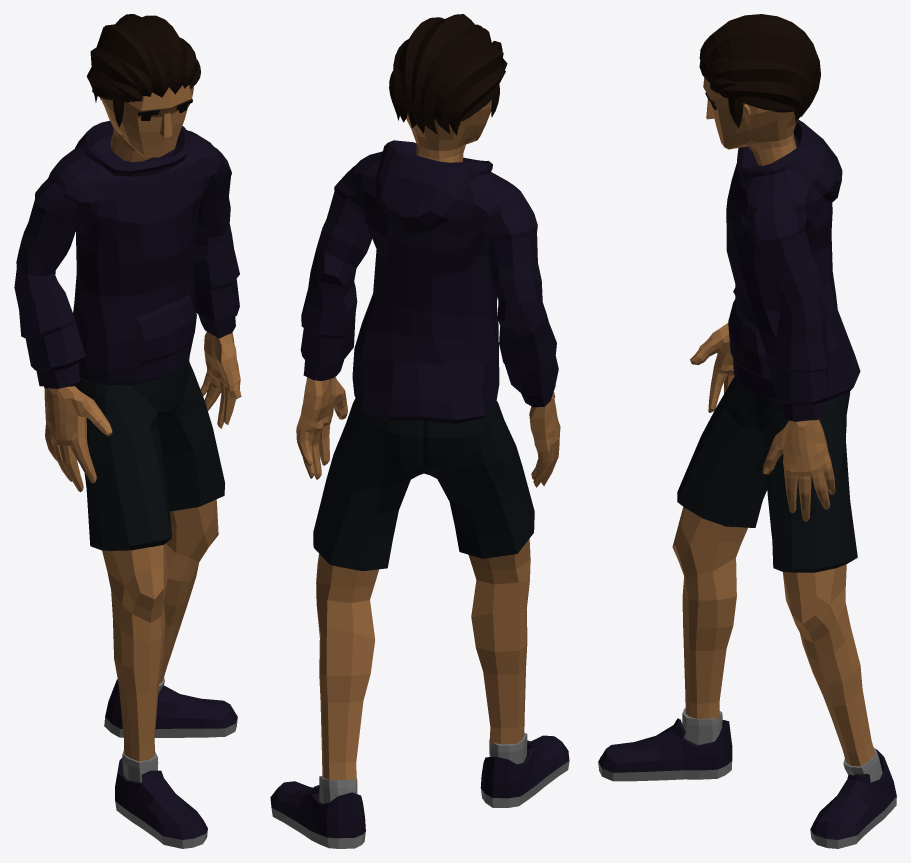
3 views of the same model, side by side, from view 1: azimuth 30°, elevation 25°; view 2: azimuth 150°, elevation 25°; view 3: azimuth 270°, elevation 25° (orthographic). The views are drawn at different scales.
Parts seen in each view (by area): view 1: Casual_Body, Casual_Legs, Casual_Head, Casual_Feet; view 2: Casual_Body, Casual_Legs, Casual_Head, Casual_Feet; view 3: Casual_Legs, Casual_Body, Casual_Head, Casual_Feet.
Part boxes in pixels (x1,y1,x2,y2): Casual_Body: (14,121,241,492); Casual_Legs: (75,357,225,761); Casual_Head: (86,14,200,162); Casual_Feet: (104,677,237,848); Casual_Body: (296,140,560,487); Casual_Legs: (313,398,534,783); Casual_Head: (389,14,507,162); Casual_Feet: (270,733,569,848); Casual_Legs: (672,376,875,766); Casual_Body: (690,119,860,521); Casual_Head: (699,14,820,165); Casual_Feet: (598,708,896,848).
Bounding box in the file's own units: 0.6044 × 1.83 × 0.6429.
